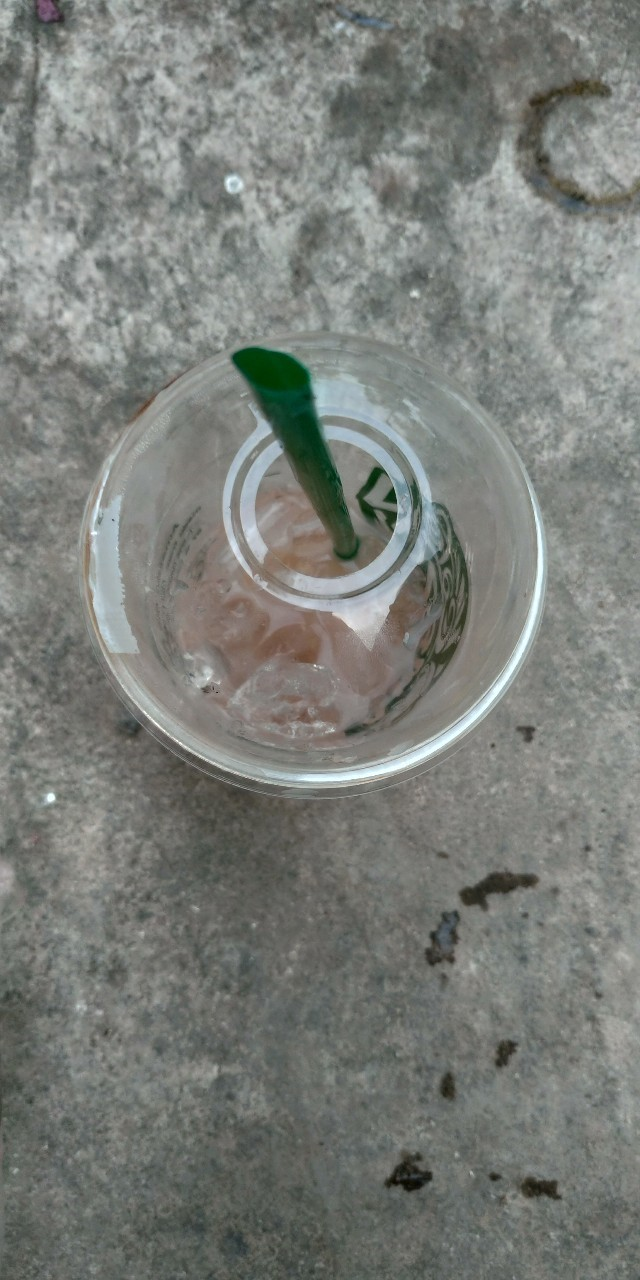PlasticCup: (86, 317, 548, 808)
